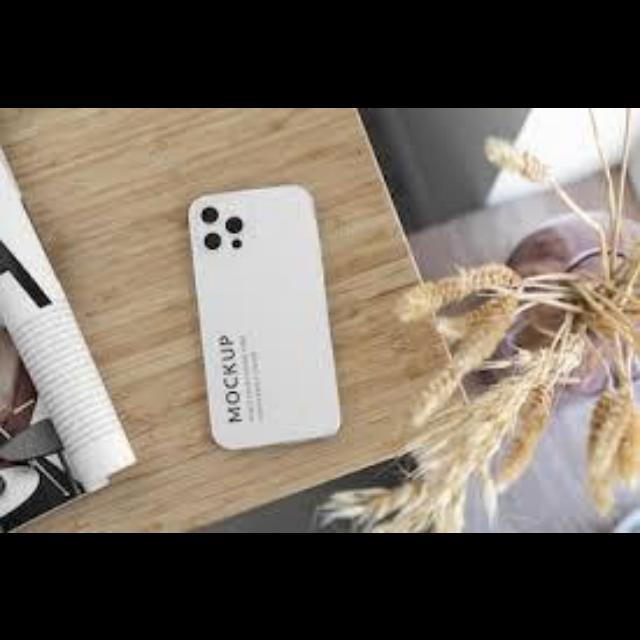Phone: (190, 182, 340, 450)
